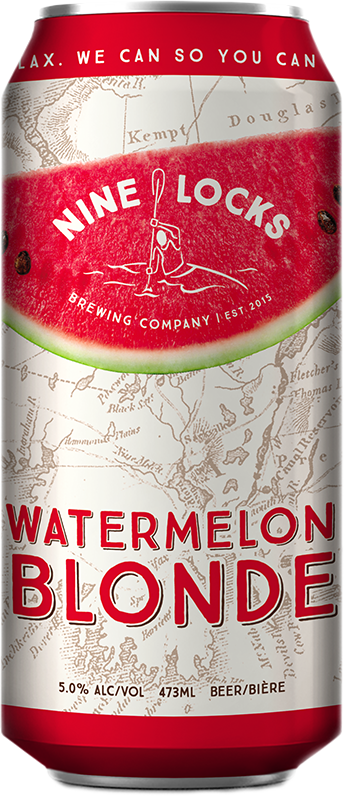beer can: (1, 9, 342, 787)
